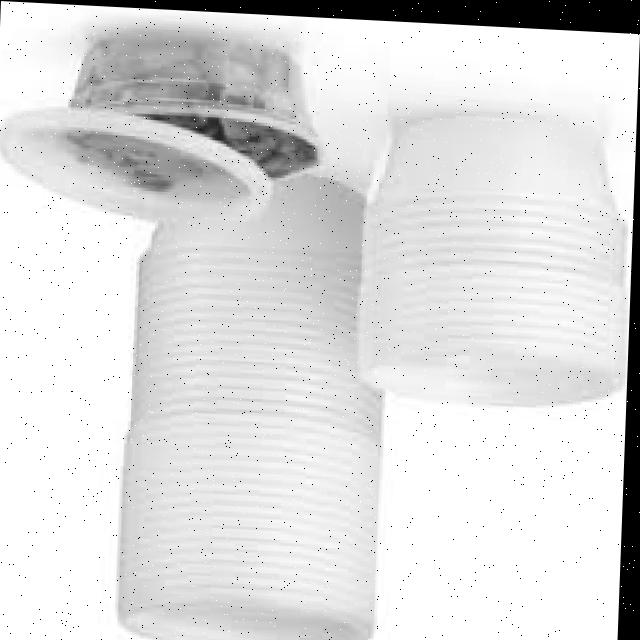disposable: (37, 2, 338, 189)
